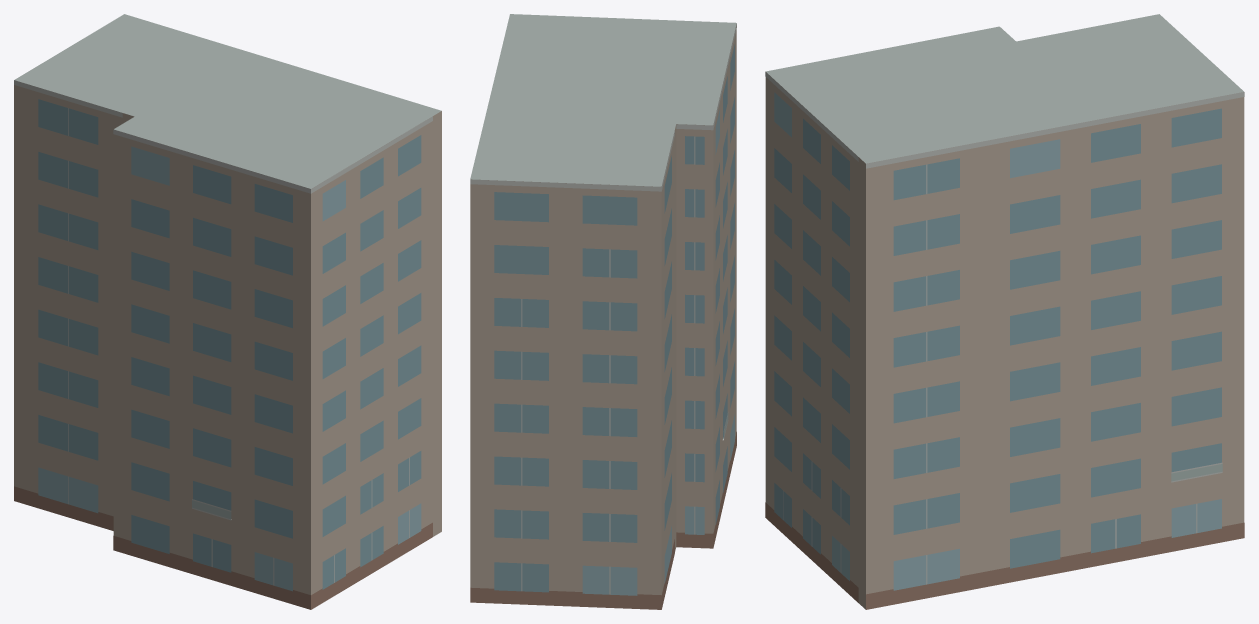
The model's file is survey-upis-32729303.glb.
3 views of the same model, side by side, from view 1: azimuth 30°, elevation 25°; view 2: azimuth 150°, elevation 25°; view 3: azimuth 270°, elevation 25° (orthographic). The views are drawn at different scales.
Visible parts, largest first — view 1: survey-upis-32729303.tmp; view 2: survey-upis-32729303.tmp; view 3: survey-upis-32729303.tmp.
Part boxes in pixels (x1,y1,x2,y2): survey-upis-32729303.tmp: [14, 14, 441, 609]; survey-upis-32729303.tmp: [470, 14, 736, 609]; survey-upis-32729303.tmp: [765, 14, 1244, 609].
Size of the model in its own units: 15.48 by 21.5 by 20.92.
